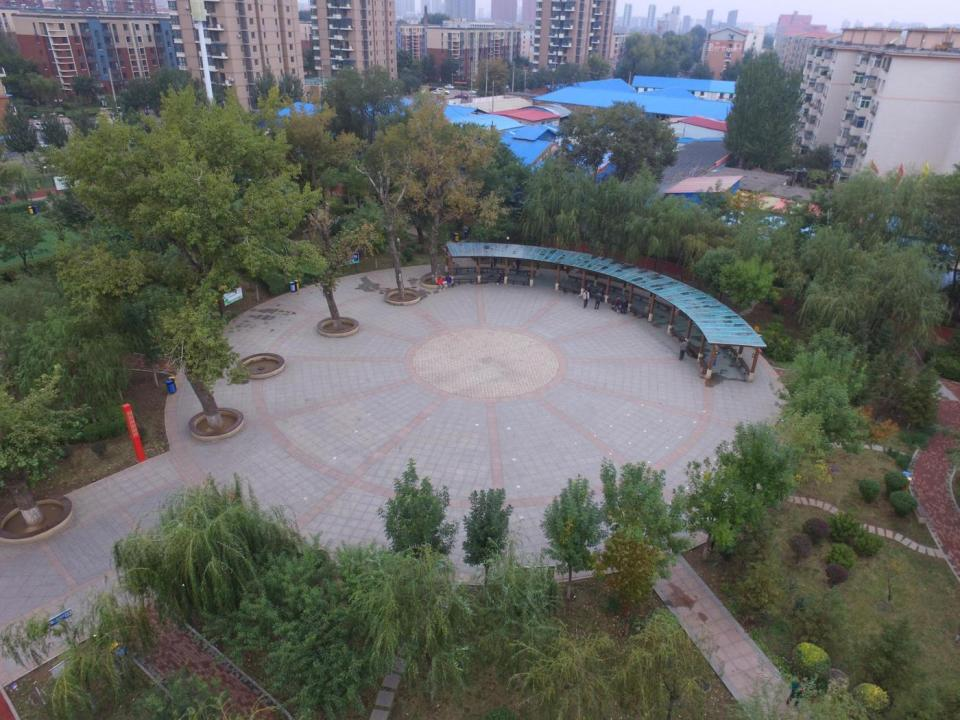car: (34, 122, 49, 131), (455, 93, 470, 100), (437, 88, 451, 94), (429, 91, 442, 96), (444, 84, 454, 90), (428, 86, 442, 90), (472, 88, 482, 93)
